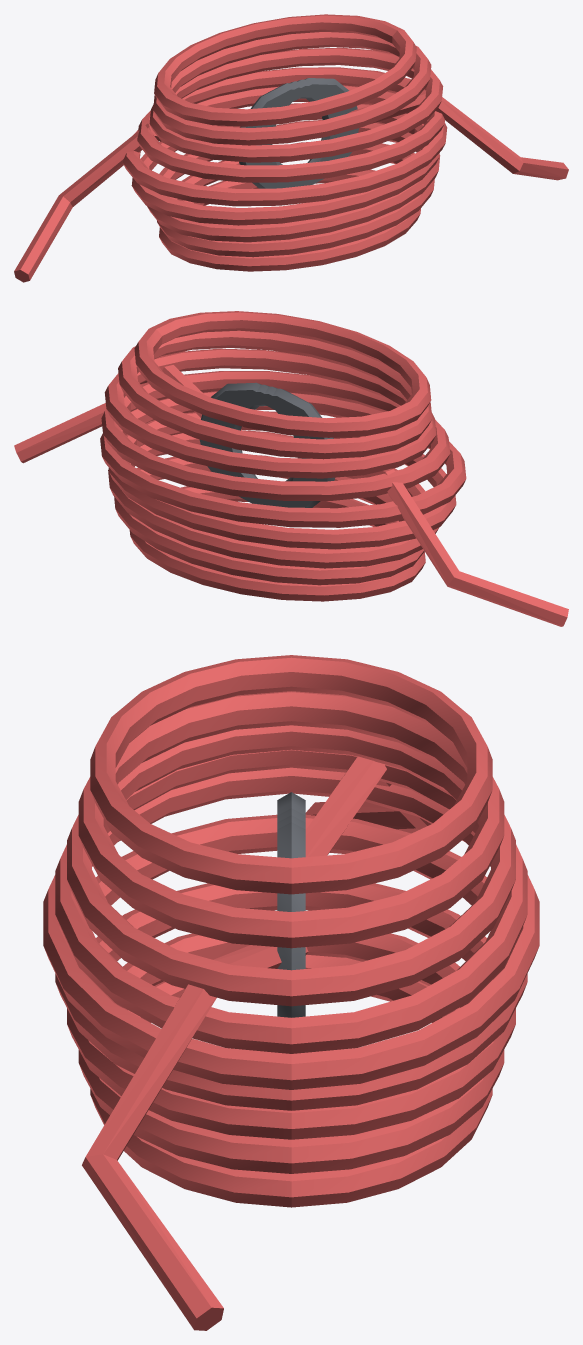
Rendered from mountaineering-and-summit-expedition-rope-coil-dbdcc8ca__18809.glb.
3 renders of one model, top to bottom at view 1: azimuth 30°, elevation 25°; view 2: azimuth 150°, elevation 25°; view 3: azimuth 270°, elevation 25°, orthographic. The views are drawn at different scales.
Visible parts, largest first — view 1: rope-coil; view 2: rope-coil; view 3: rope-coil.
Part boxes in pixels (x1,y1,x2,y2): rope-coil: (14,14,568,282); rope-coil: (14,311,568,626); rope-coil: (43,655,539,1330).
Size of the model in its own units: 0.8774 by 0.2738 by 0.3613.
